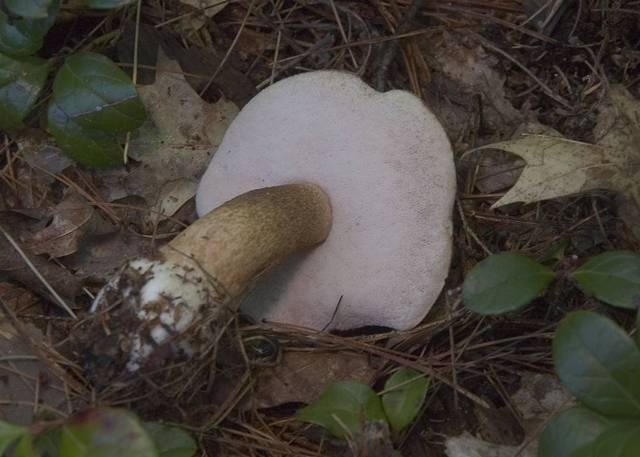poisonous_mushroom: (192, 67, 458, 336)
